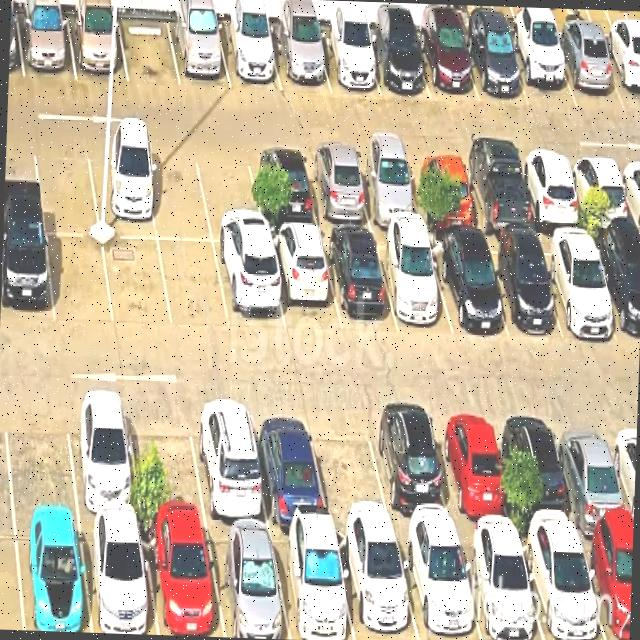empty: (308, 407, 392, 529), (126, 397, 206, 523), (2, 393, 77, 516), (194, 147, 265, 243), (103, 237, 172, 329), (32, 140, 99, 234), (144, 146, 211, 240), (158, 240, 229, 328), (46, 234, 113, 324), (118, 16, 180, 86)
occupied: (365, 408, 456, 531), (430, 408, 514, 533), (188, 399, 268, 525), (552, 411, 633, 533), (204, 525, 290, 639), (248, 403, 329, 524), (64, 393, 141, 519), (501, 409, 578, 533), (141, 523, 224, 637), (270, 528, 354, 640), (334, 529, 418, 640), (518, 533, 605, 640), (457, 532, 543, 640), (396, 533, 481, 640), (80, 519, 157, 635), (14, 519, 90, 632), (536, 235, 619, 337), (374, 234, 453, 335), (479, 239, 561, 336), (427, 238, 508, 336), (267, 231, 341, 332), (321, 232, 397, 329), (86, 143, 156, 238), (213, 244, 285, 331), (578, 532, 633, 640), (459, 154, 533, 234), (550, 34, 624, 109), (406, 153, 478, 230), (247, 150, 318, 227), (590, 236, 640, 344), (302, 150, 372, 226), (352, 151, 422, 226), (0, 228, 54, 324), (506, 34, 577, 107), (517, 154, 585, 229), (566, 154, 633, 230), (462, 29, 528, 104), (414, 28, 479, 101), (364, 30, 430, 99), (216, 22, 281, 90), (168, 18, 230, 89), (315, 29, 380, 95), (67, 15, 128, 81), (269, 27, 330, 91), (17, 13, 76, 79), (599, 38, 640, 109)
